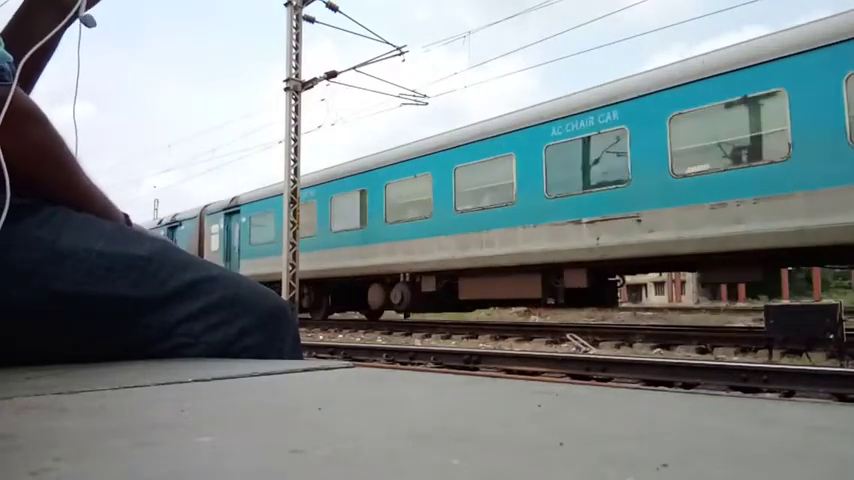Car Type: (544, 109, 627, 141)
